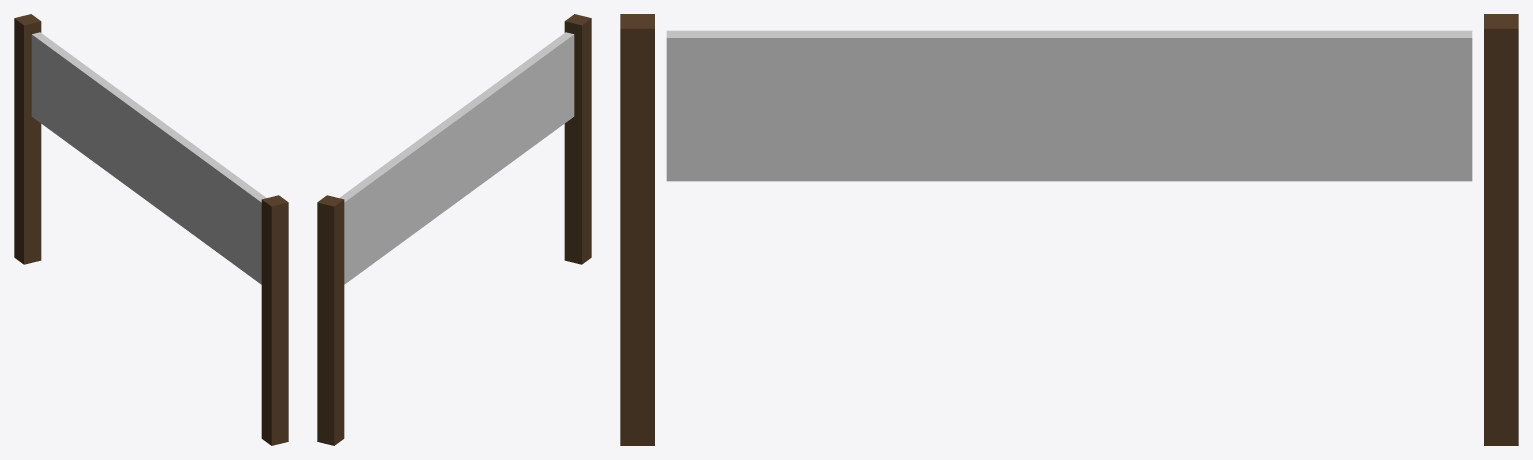
File: banner.obj
3 views of the same model, side by side, from view 1: azimuth 30°, elevation 25°; view 2: azimuth 150°, elevation 25°; view 3: azimuth 270°, elevation 25° (orthographic). The views are drawn at different scales.
Bounding box in the file's own units: 0.12 × 1.6 × 3.12.
